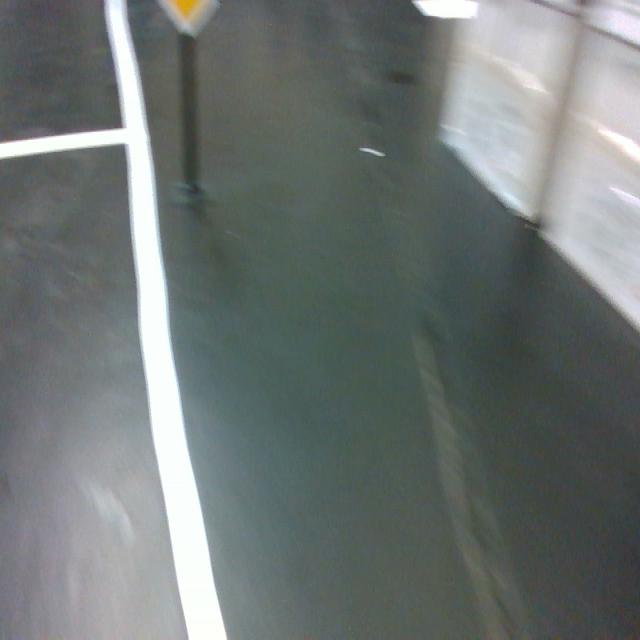priority-sign: (154, 0, 222, 37)
